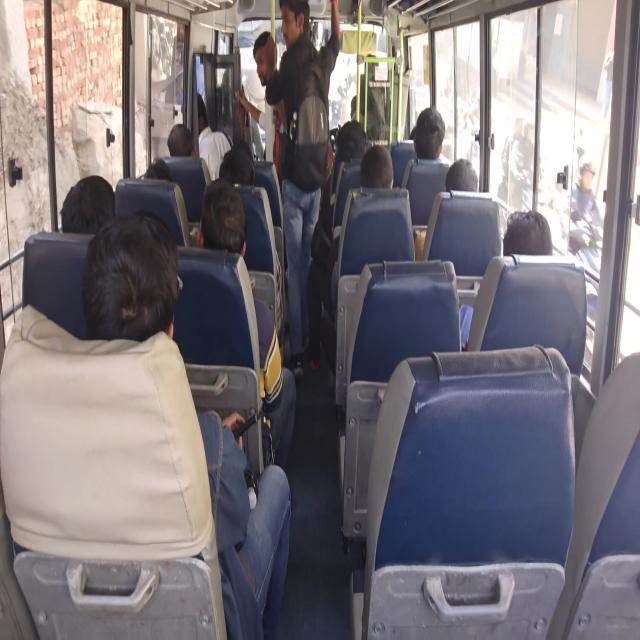person: (96, 251, 166, 378), (207, 184, 253, 280), (62, 183, 118, 254), (275, 8, 318, 100), (181, 89, 218, 160), (418, 101, 450, 169), (257, 37, 285, 112), (509, 214, 543, 268), (224, 150, 264, 193), (332, 121, 368, 167), (446, 158, 478, 205), (359, 152, 393, 193), (148, 161, 178, 205), (230, 134, 258, 162), (174, 127, 196, 157), (408, 120, 427, 146)
